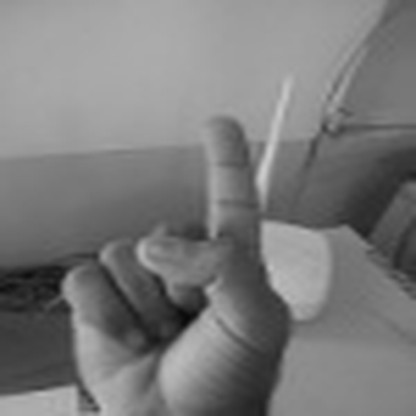d: (61, 113, 293, 412)
